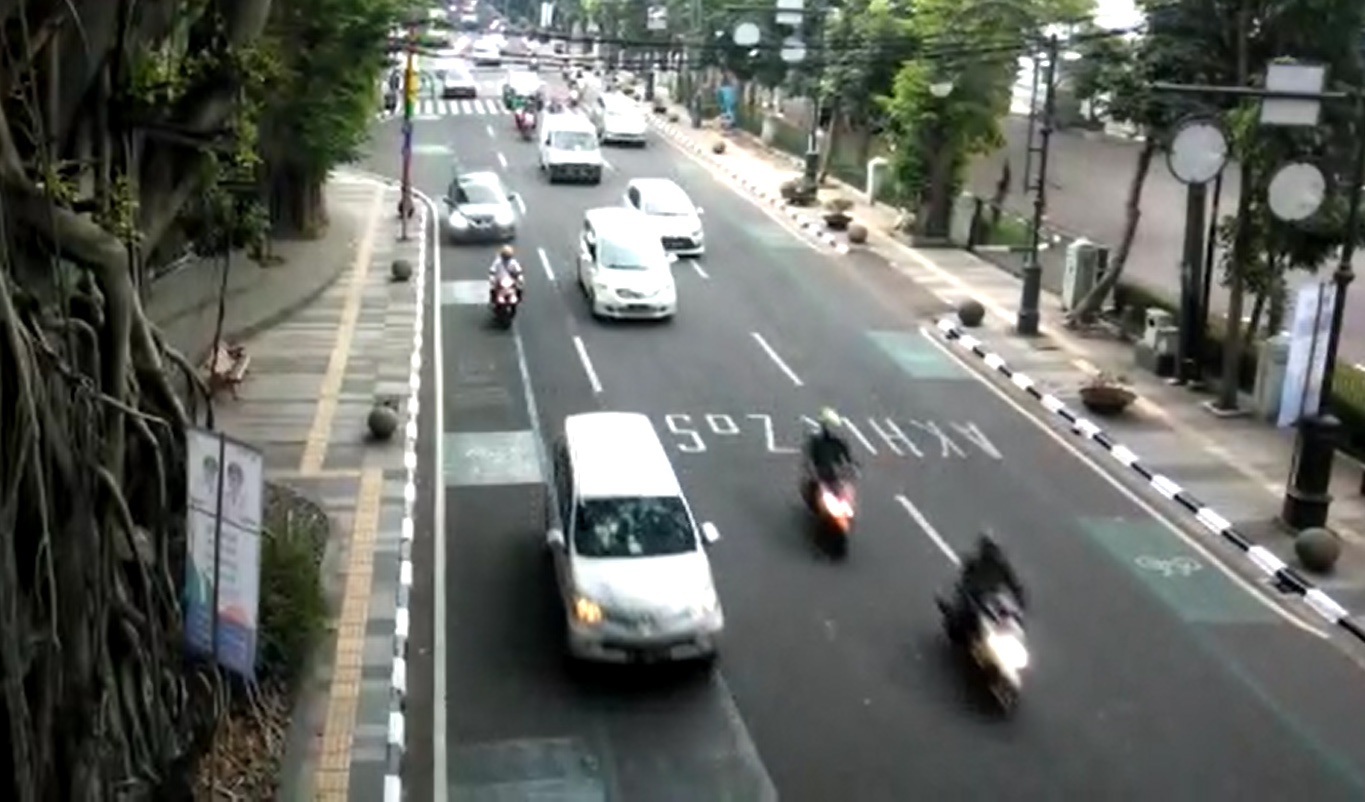mobil: (528, 403, 739, 685), (569, 200, 686, 331), (618, 168, 717, 272), (535, 100, 614, 204), (435, 163, 529, 248)
motor: (921, 516, 1062, 732), (781, 397, 878, 572), (478, 238, 534, 337)
